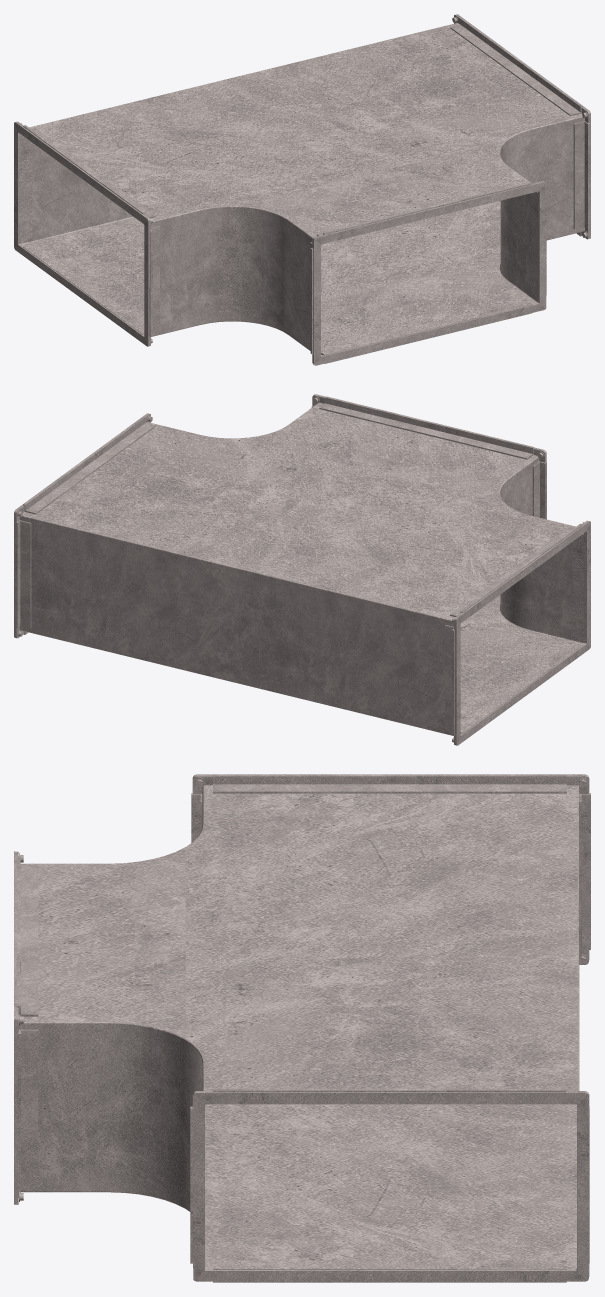
The model's file is SM_Square_Ducting_01g.glb.
3 views of the same model, one above another, from view 1: azimuth 30°, elevation 25°; view 2: azimuth 150°, elevation 25°; view 3: azimuth 270°, elevation 25° (orthographic). The views are drawn at different scales.
Visible parts, largest first — view 1: SM_Square_Ducting_01g; view 2: SM_Square_Ducting_01g; view 3: SM_Square_Ducting_01g.
Boxes of the visible parts, <box> form: SM_Square_Ducting_01g: <box>14,14,590,365</box>; SM_Square_Ducting_01g: <box>14,394,590,745</box>; SM_Square_Ducting_01g: <box>14,774,590,1282</box>.
Size of the model in its own units: 2 by 0.5623 by 1.53.
1 material, 1 textured.
